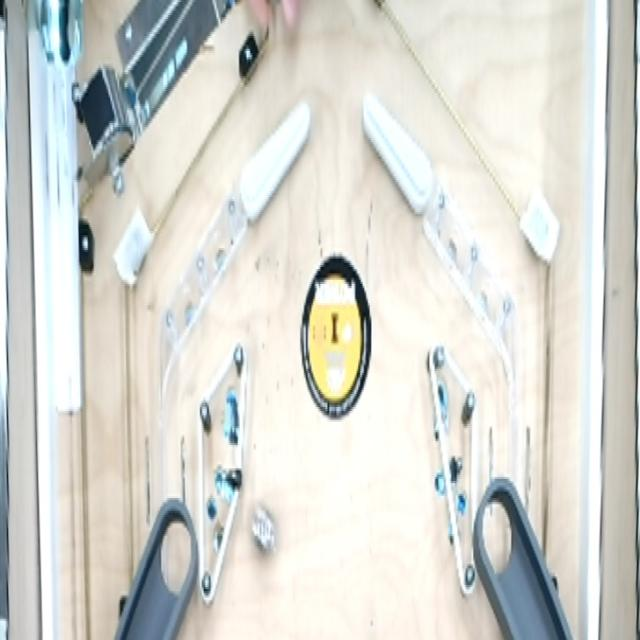ball: (248, 496, 281, 574)
flipper-left: (360, 78, 437, 241)
flipper-right: (240, 90, 312, 236)
